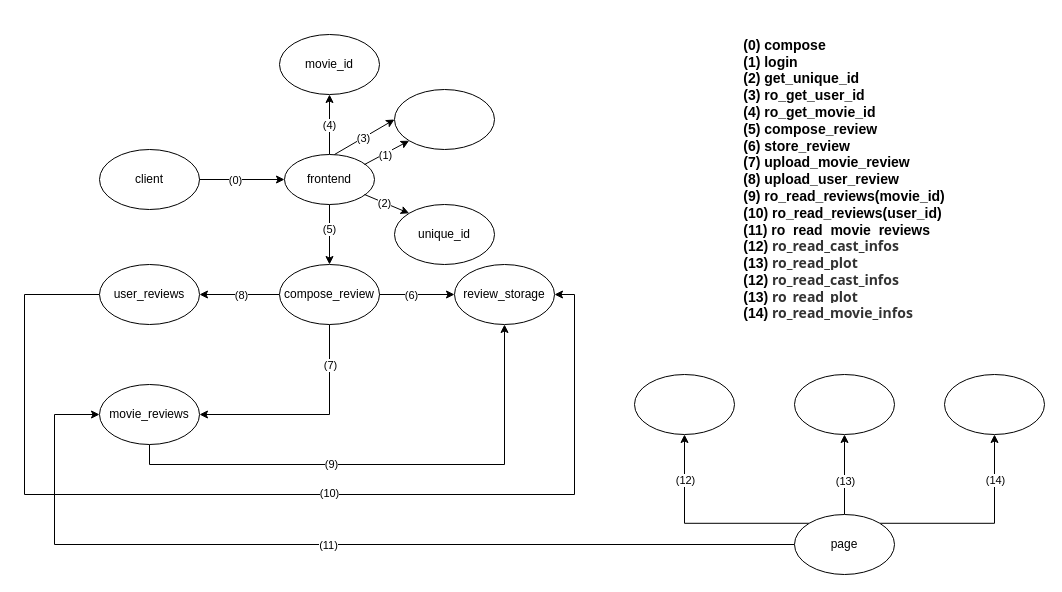
The diagram is 1062 pixels wide and 592 high, and some of its shapes have lost their labels. The shapes that lost their labels are listed below. From the top down, each one's box as (x1, y1, x2, y2) in pixels, then its label:
(394, 88, 494, 150): user
(634, 374, 734, 434): cast_info
(794, 374, 894, 434): plot
(944, 374, 1044, 434): movie_info
